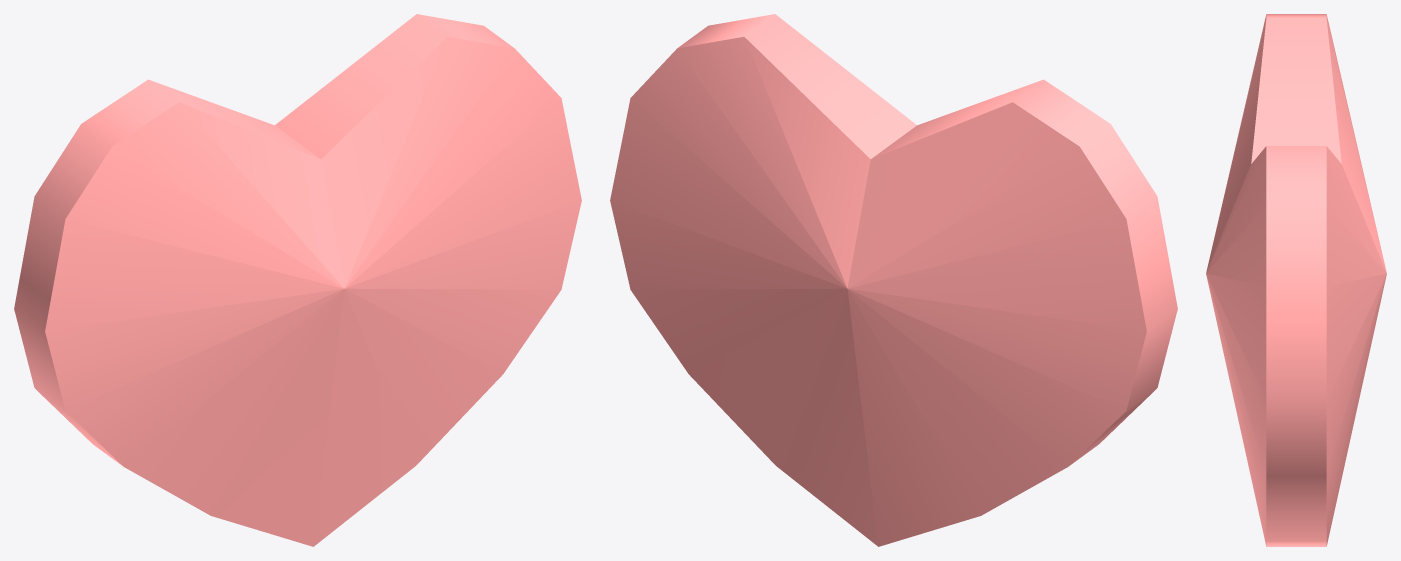
File: item001.fbx
3 renders of one model, left to right at view 1: azimuth 30°, elevation 25°; view 2: azimuth 150°, elevation 25°; view 3: azimuth 270°, elevation 25°, orthographic. The views are drawn at different scales.
Parts seen in each view (by area): view 1: obj0; view 2: obj0; view 3: obj0.
Part boxes in pixels (x1,y1,x2,y2): obj0: (14,14,581,546); obj0: (610,14,1177,546); obj0: (1206,14,1386,546).
Bounding box in the file's own units: 20 × 17 × 6.
